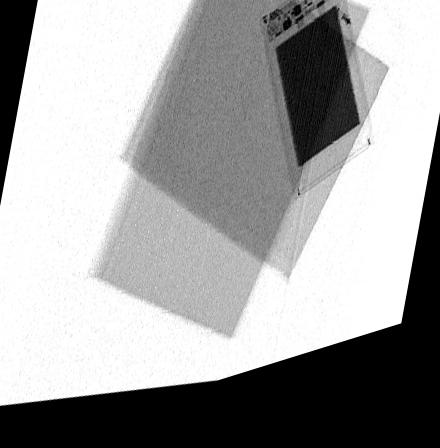Powerbank: (259, 0, 373, 218)
